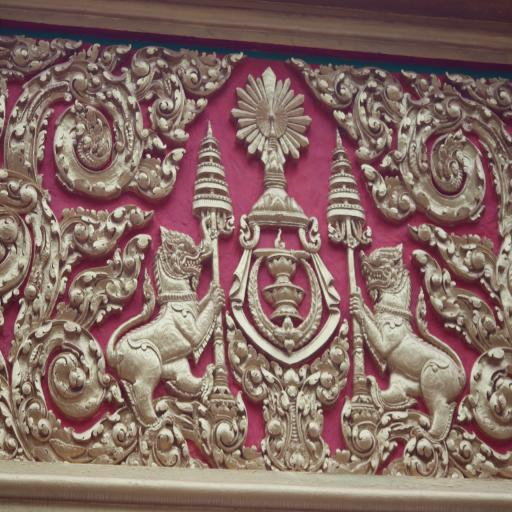la: (0, 66, 139, 205), (0, 199, 159, 319), (0, 319, 124, 472), (228, 320, 348, 473), (404, 83, 512, 226), (414, 221, 512, 349), (300, 50, 406, 157), (136, 50, 231, 129), (461, 354, 512, 478), (138, 128, 188, 198), (361, 152, 407, 216)
than: (352, 239, 461, 442), (114, 224, 215, 418)
